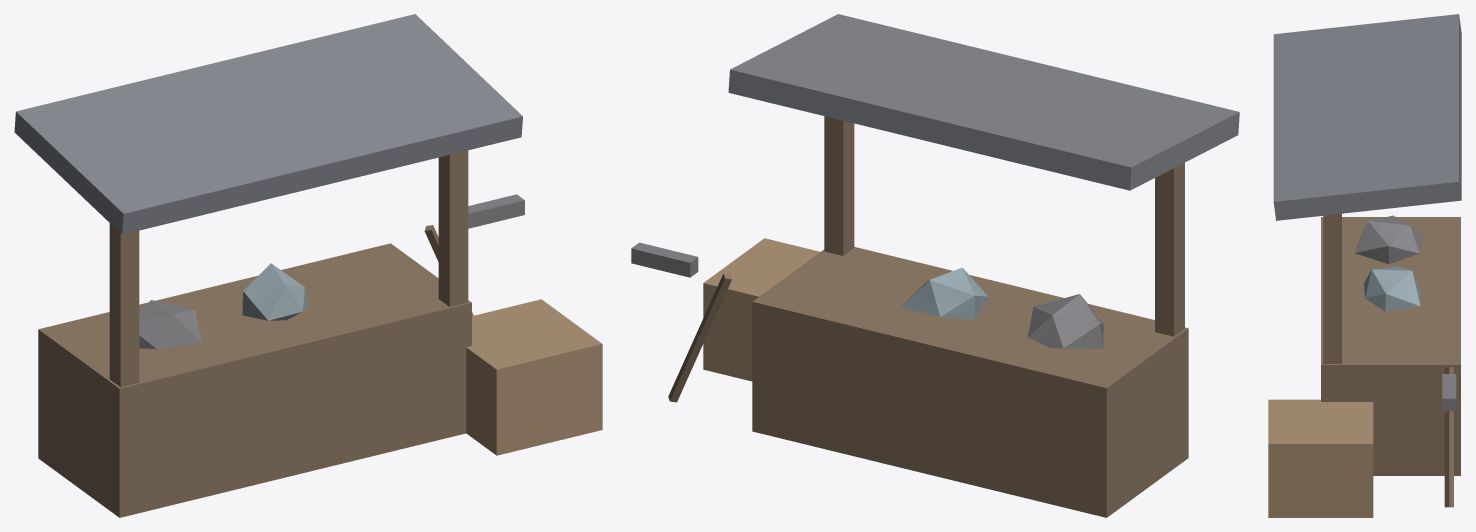
The picture shows the model from 3 angles, left to right: view 1: azimuth 30°, elevation 25°; view 2: azimuth 150°, elevation 25°; view 3: azimuth 270°, elevation 25°; orthographic projection. The views are drawn at different scales.
Visible parts, largest first — view 1: structure.counter_mine; view 2: structure.counter_mine; view 3: structure.counter_mine.
Part boxes in pixels (left/top/right/bottom): structure.counter_mine: left=14, top=14, right=602, bottom=517; structure.counter_mine: left=631, top=14, right=1239, bottom=517; structure.counter_mine: left=1268, top=14, right=1461, bottom=517.
Bounding box in the file's own units: 4.25 × 2.88 × 1.66.
